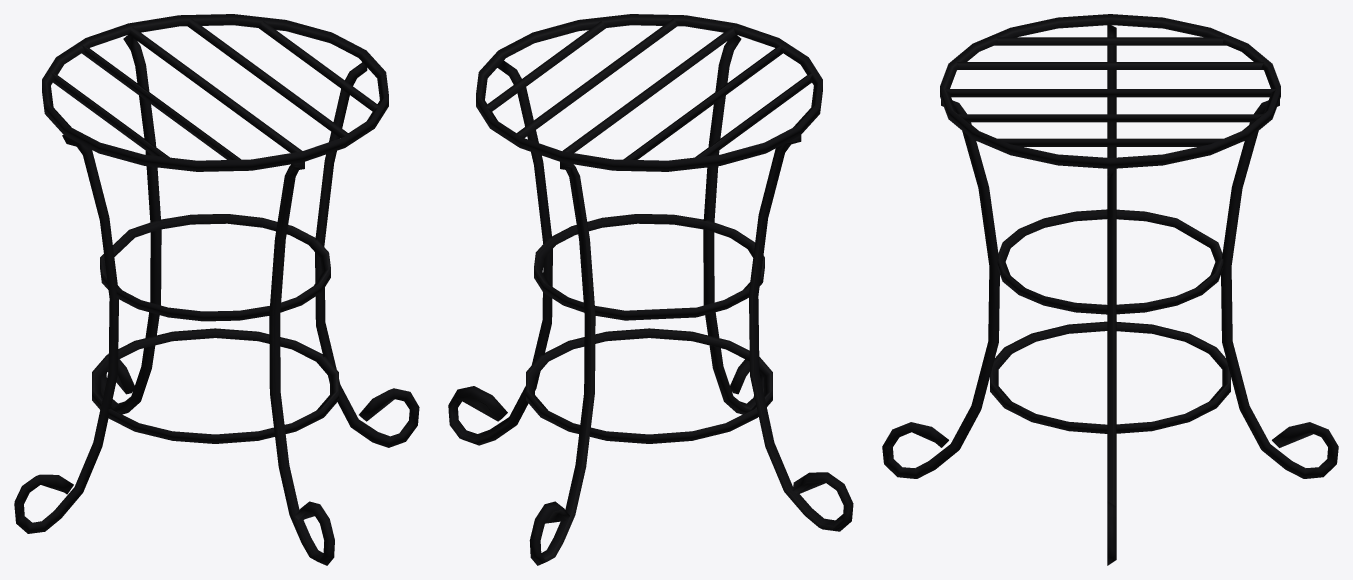
Rendered from Furniture_flowerstand_01_LOD1.fbx.
3 renders of one model, left to right at view 1: azimuth 30°, elevation 25°; view 2: azimuth 150°, elevation 25°; view 3: azimuth 270°, elevation 25°, orthographic. The views are drawn at different scales.
Parts seen in each view (by area): view 1: Furniture_flowerstand_01; view 2: Furniture_flowerstand_01; view 3: Furniture_flowerstand_01.
Part boxes in pixels (left/top/right/bottom): Furniture_flowerstand_01: left=14, top=14, right=419, bottom=565; Furniture_flowerstand_01: left=448, top=14, right=853, bottom=565; Furniture_flowerstand_01: left=882, top=14, right=1338, bottom=565.
Bounding box in the file's own units: 31.74 × 30.05 × 31.74.
